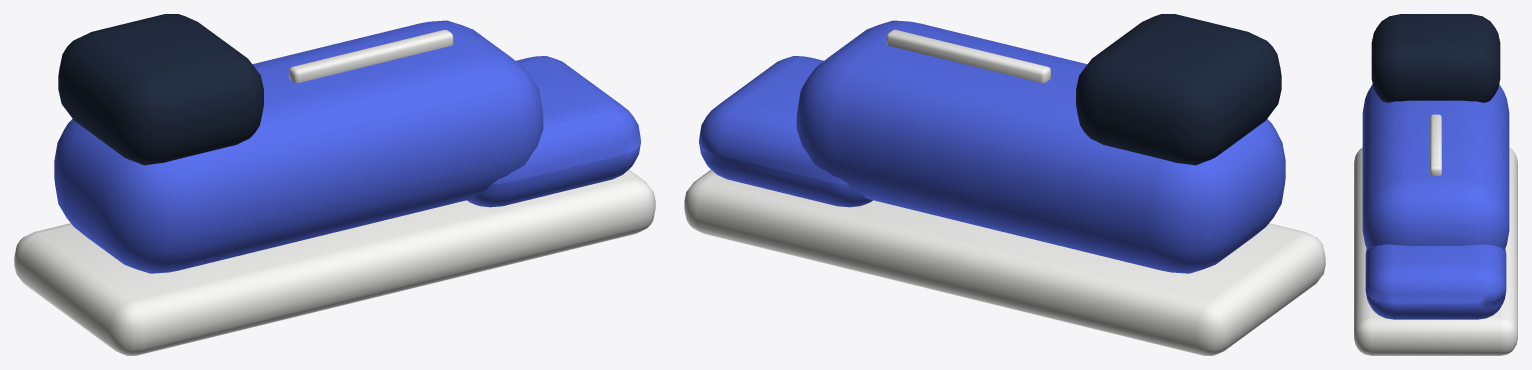
The model's file is sneaker.glb.
3 renders of one model, left to right at view 1: azimuth 30°, elevation 25°; view 2: azimuth 150°, elevation 25°; view 3: azimuth 270°, elevation 25°, orthographic. The views are drawn at different scales.
Visible parts, largest first — view 1: upper, sole, collar, toe, lace; view 2: upper, sole, collar, toe, lace; view 3: upper, collar, toe, sole, lace.
Part boxes in pixels (x1,y1,x2,y2): upper: (54, 20, 543, 273); sole: (14, 170, 655, 355); collar: (58, 14, 263, 165); toe: (467, 56, 640, 207); lace: (289, 29, 453, 82); upper: (796, 20, 1285, 273); sole: (684, 170, 1325, 355); collar: (1076, 14, 1281, 165); toe: (699, 56, 872, 207); lace: (886, 29, 1050, 82); upper: (1362, 84, 1509, 249); collar: (1371, 14, 1500, 102); toe: (1365, 244, 1506, 319); sole: (1354, 147, 1517, 355); lace: (1430, 114, 1441, 175).
Size of the model in its own units: 0.75 by 0.34 by 0.28.
